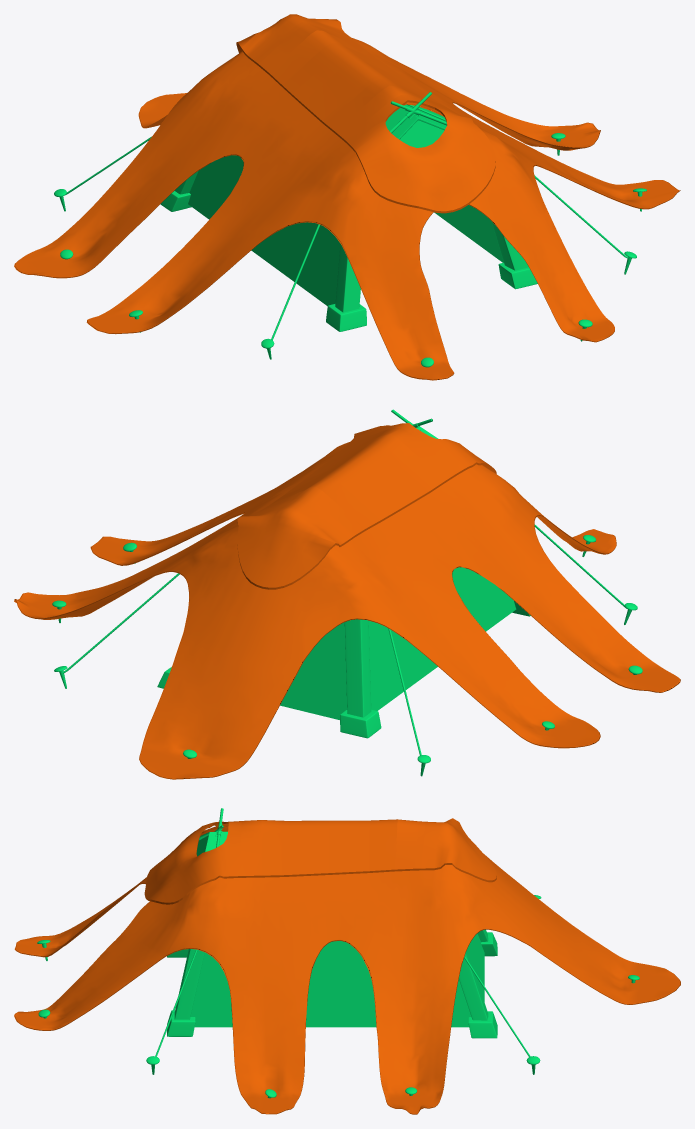
File: tente_final_v3.fbx
3 renders of one model, top to bottom at view 1: azimuth 30°, elevation 25°; view 2: azimuth 150°, elevation 25°; view 3: azimuth 270°, elevation 25°, orthographic. The views are drawn at different scales.
Visible parts, largest first — view 1: pPlane9, polySurface7; view 2: pPlane9, polySurface7; view 3: pPlane9, polySurface7.
Part boxes in pixels (left/top/right/bottom): pPlane9: left=14, top=14, right=680, bottom=380; polySurface7: left=54, top=92, right=646, bottom=367; pPlane9: left=14, top=423, right=680, bottom=779; polySurface7: left=52, top=409, right=642, bottom=776; pPlane9: left=14, top=818, right=680, bottom=1114; polySurface7: left=37, top=808, right=639, bottom=1098.
Bounding box in the file's own units: 40.11 × 12.8 × 43.08.
